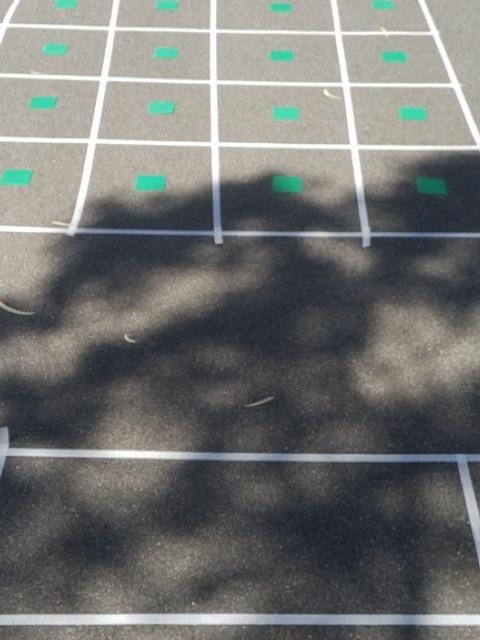weed: (269, 169, 307, 200), (133, 164, 166, 199), (413, 171, 449, 201), (0, 164, 33, 192), (266, 43, 298, 68), (27, 92, 58, 116), (143, 96, 178, 117), (397, 102, 429, 124), (271, 101, 300, 124), (41, 36, 69, 58), (150, 44, 180, 62), (380, 48, 408, 66), (266, 0, 292, 18), (369, 0, 399, 14), (152, 0, 182, 13), (50, 0, 81, 10)
